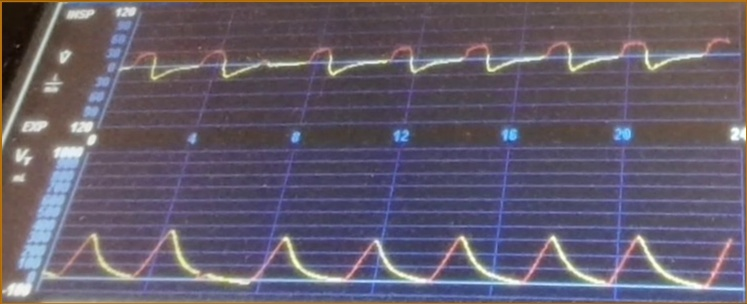Ineffective_effort Flow: (127, 17, 730, 107)
Ineffective_effort Volume: (50, 212, 735, 294)
